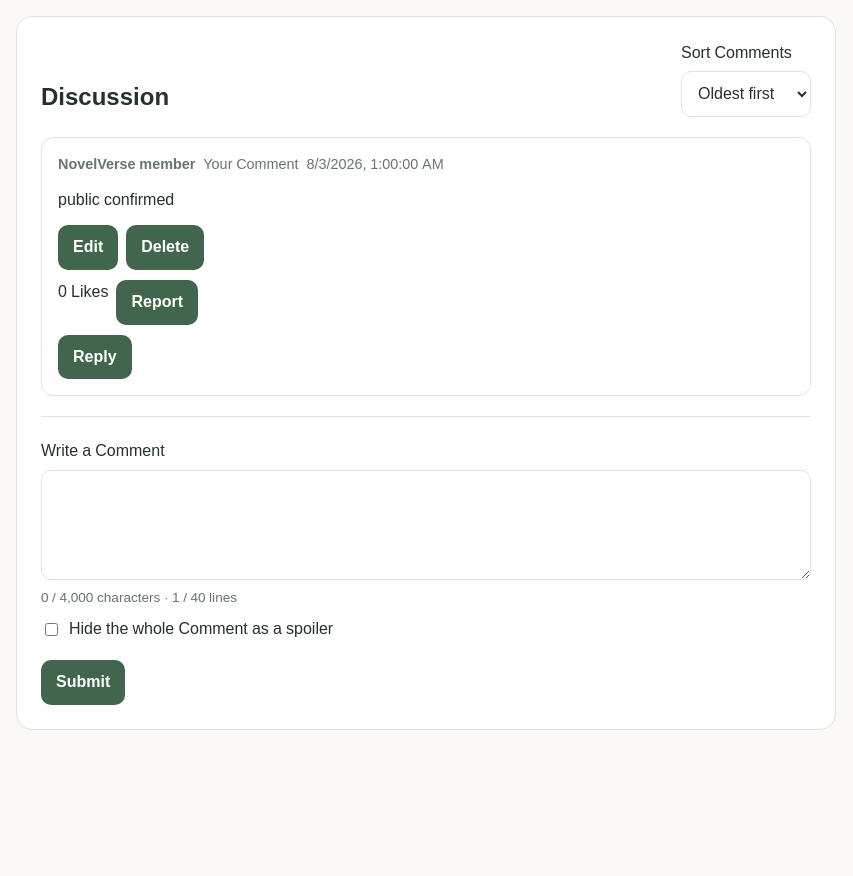
Test: session request isolation › terminal 401 clears private mutation state and refetches anonymous discussion
Click the button "Edit".
click(88, 247)  # box [58,225,118,270]
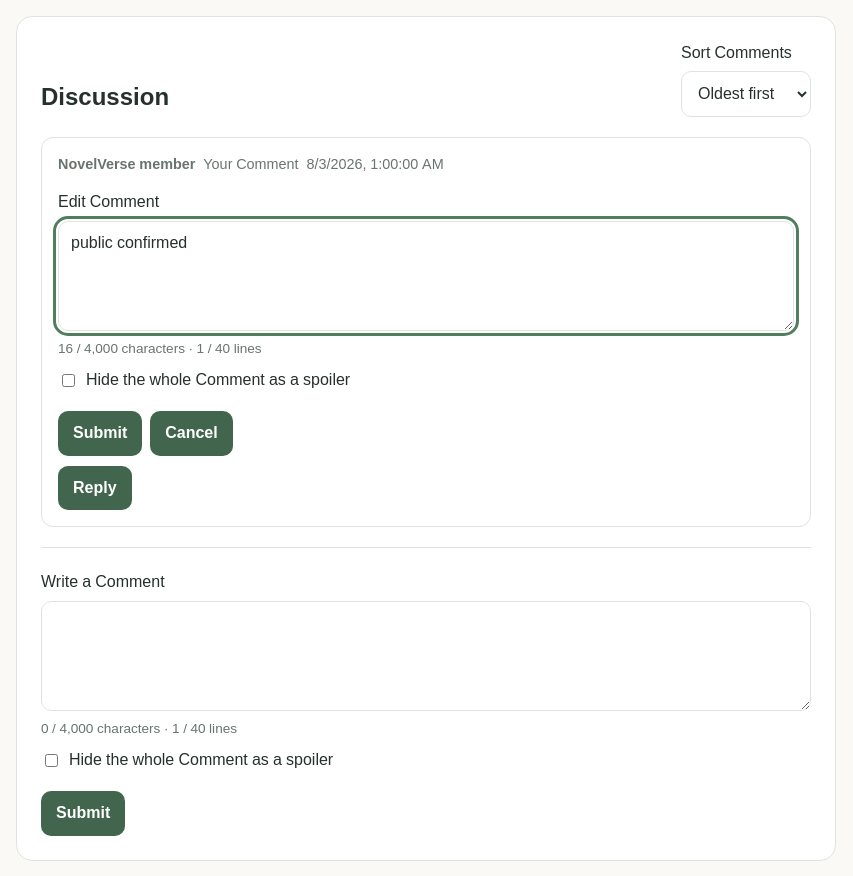
Replace the text in the text box labelled "Edit Comment" with "private edit" at (426, 276), box [58,221,794,331]
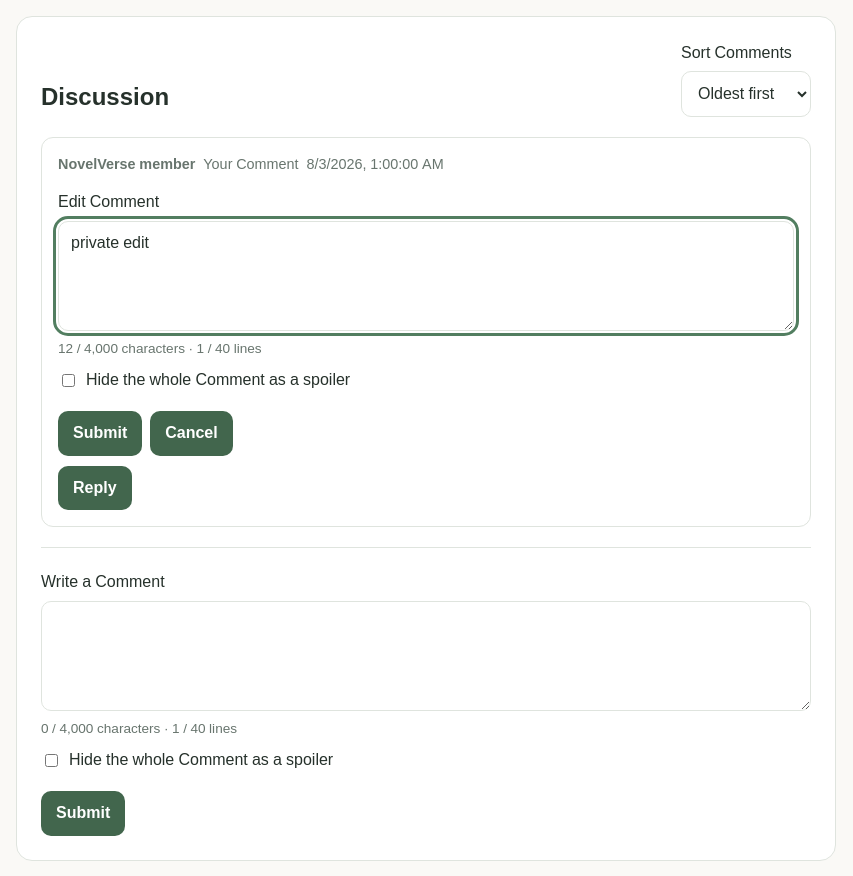
Submit the form "Edit Comment", box [58,190,794,456]
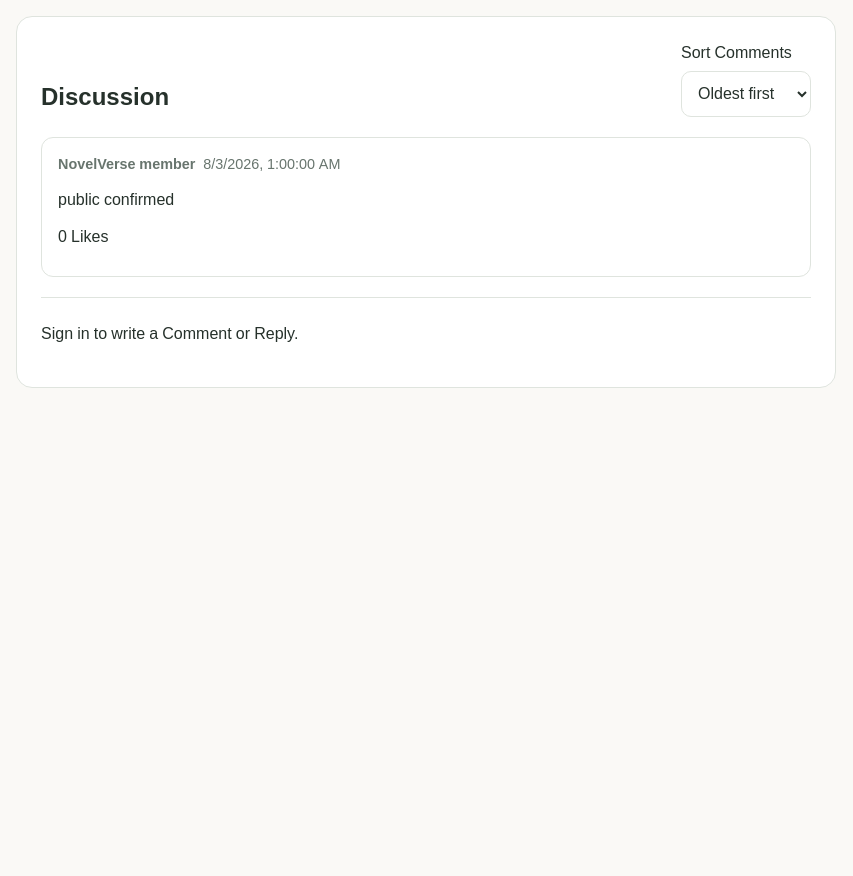
Result: the link "Sign in" is shown at [41,322,90,346]
Result: the label "Edit" is gone
Result: the text "public confirmed" is shown at [58,188,174,212]
